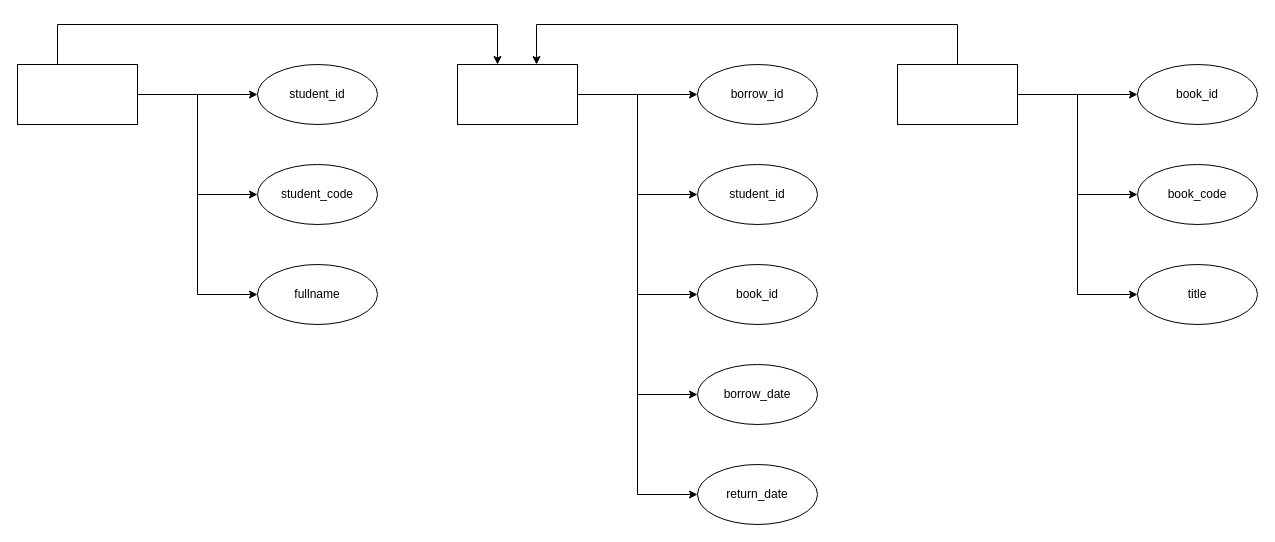
This 1275x542 diagram has some shape labels left out. Here are the shapes that lost their labels. From the top down, the centre of each, then its label:
At point 77,94: "students".
At point 517,94: "borrow".
At point 957,94: "books".
